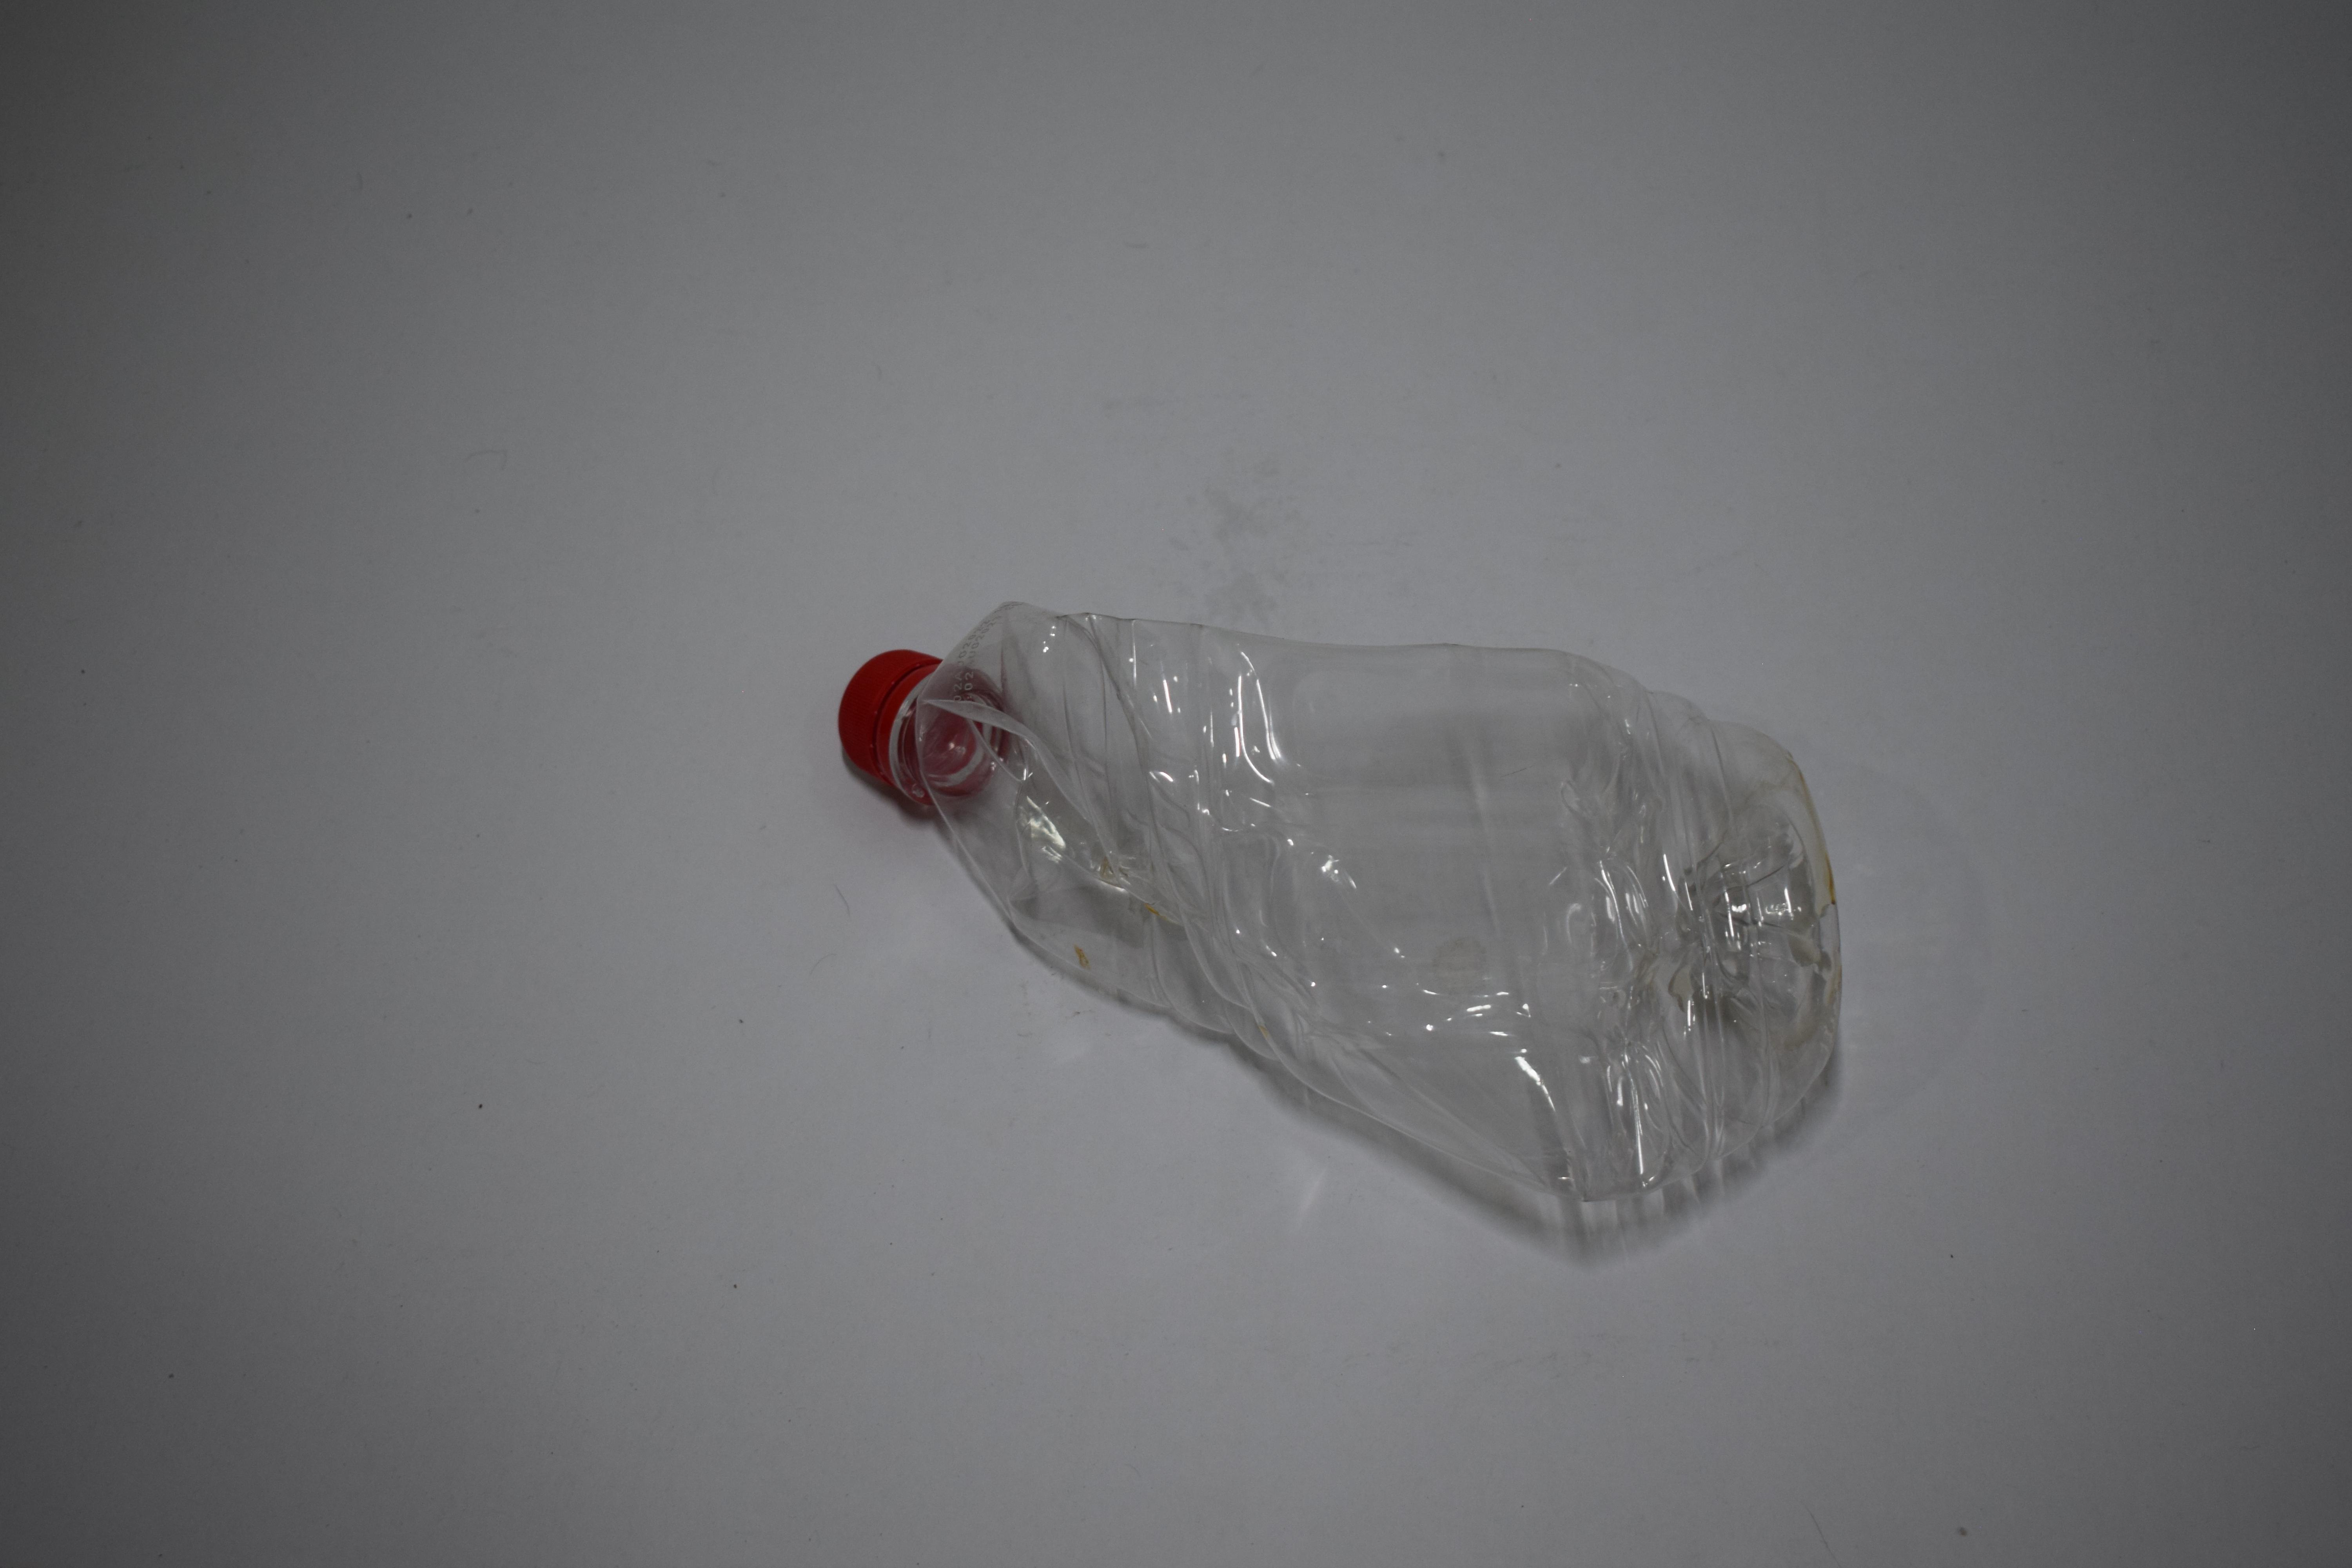bottle: (0, 0, 674, 455)
